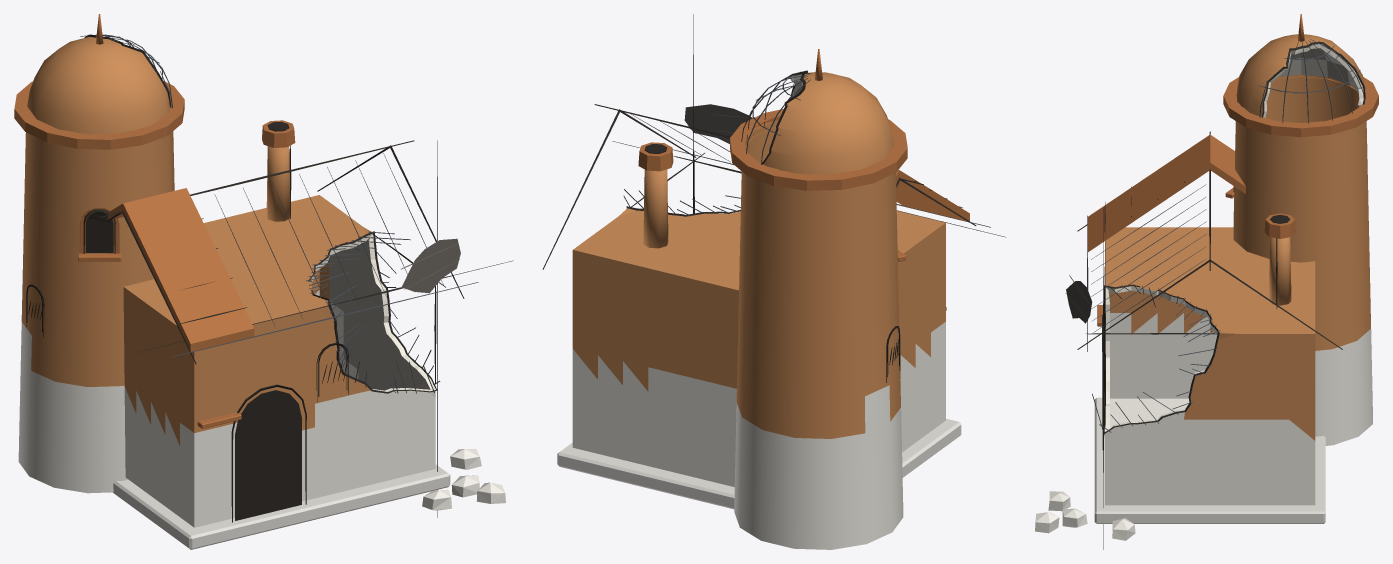
The model's file is House_3.fbx.
3 views of the same model, side by side, from view 1: azimuth 30°, elevation 25°; view 2: azimuth 150°, elevation 25°; view 3: azimuth 270°, elevation 25° (orthographic). The views are drawn at different scales.
Visible parts, largest first — view 1: House, Lines; view 2: House, Lines; view 3: House, Lines.
Part boxes in pixels (box(x1,y1,x2,y2)): House: box(14, 14, 505, 549); Lines: box(26, 34, 513, 522); House: box(557, 49, 969, 549); Lines: box(542, 14, 1005, 382); House: box(1035, 14, 1378, 540); Lines: box(1065, 39, 1365, 549).
Size of the model in its own units: 5.67 by 6.84 by 4.91.
